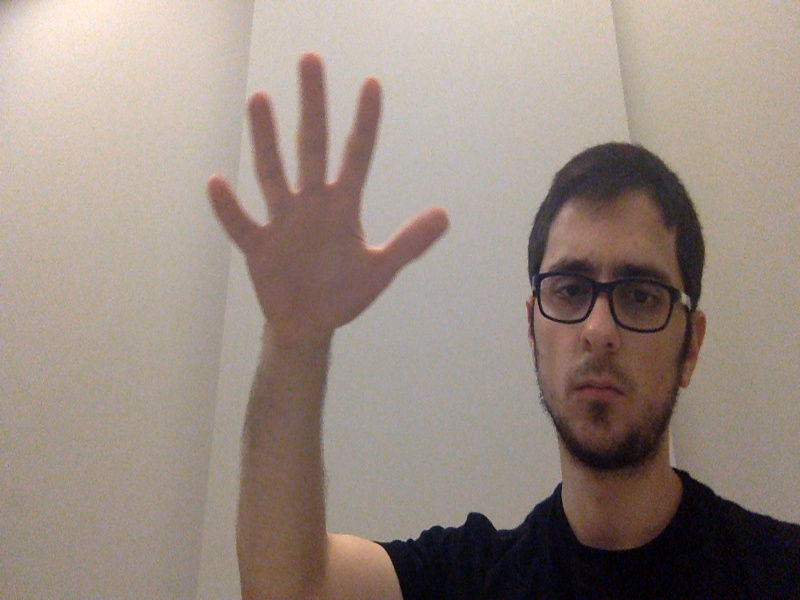5-hand: (206, 51, 453, 339)
